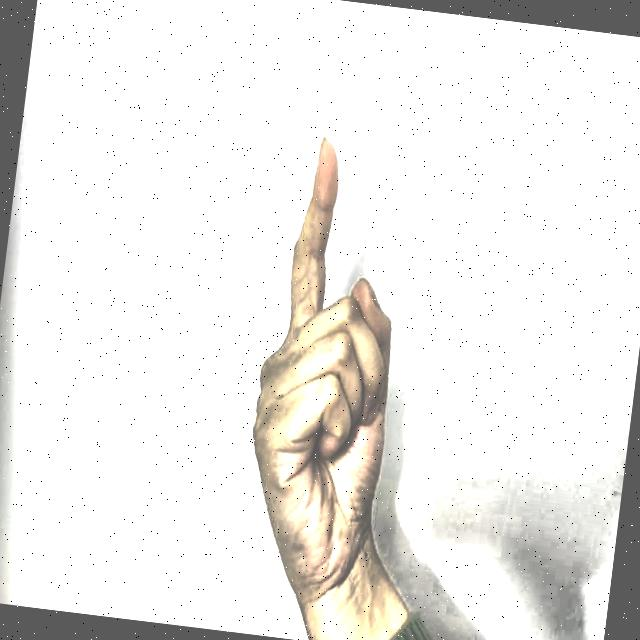U: (210, 103, 468, 592)
